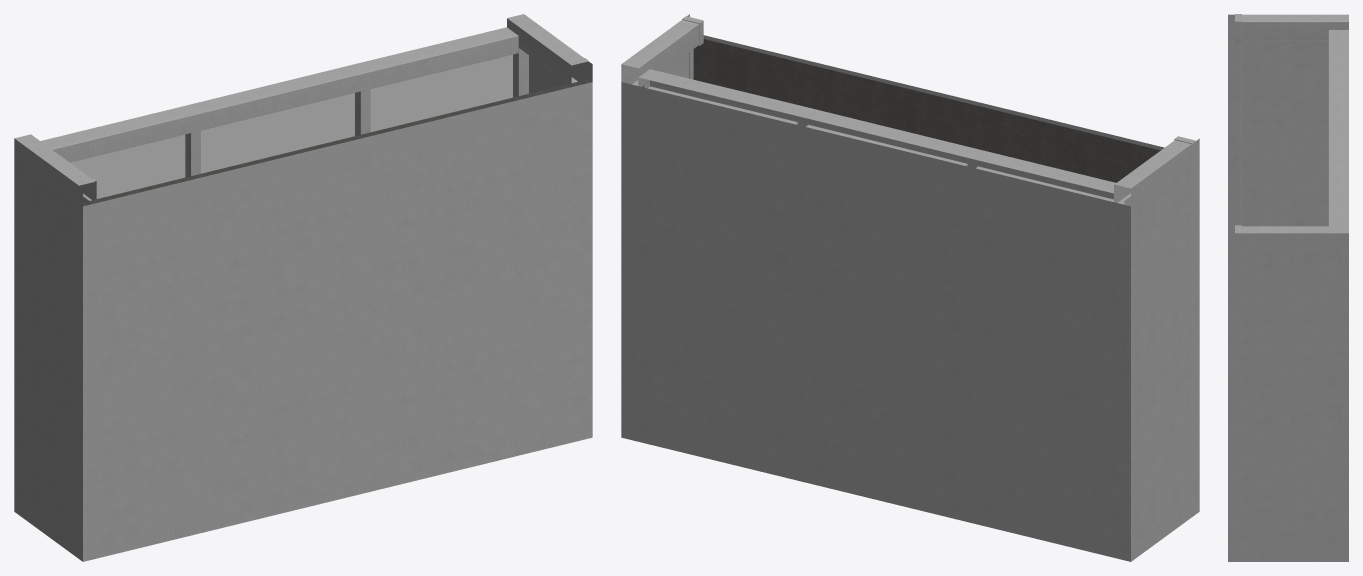
Rendered from EntranceSpace.fbx.
3 views of the same model, side by side, from view 1: azimuth 30°, elevation 25°; view 2: azimuth 150°, elevation 25°; view 3: azimuth 270°, elevation 25° (orthographic). The views are drawn at different scales.
Parts seen in each view (by area): view 1: SM_EntranceMesh_01_1500_LOD0; view 2: SM_EntranceMesh_01_1500_LOD0; view 3: SM_EntranceMesh_01_1500_LOD0.
Part boxes in pixels (bbox=[...]): SM_EntranceMesh_01_1500_LOD0: bbox=[14, 14, 592, 561]; SM_EntranceMesh_01_1500_LOD0: bbox=[621, 14, 1199, 561]; SM_EntranceMesh_01_1500_LOD0: bbox=[1228, 14, 1348, 561].
Size of the model in its own units: 15 by 10.62 by 3.5.
